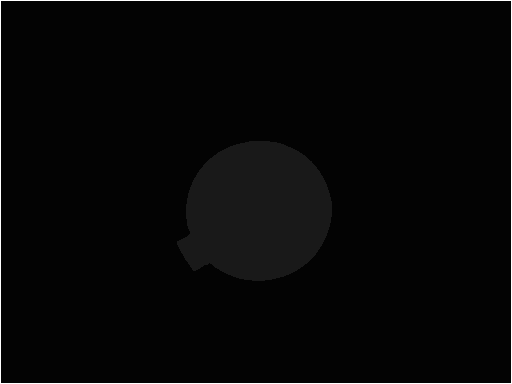speaker: (180, 140, 332, 283)
